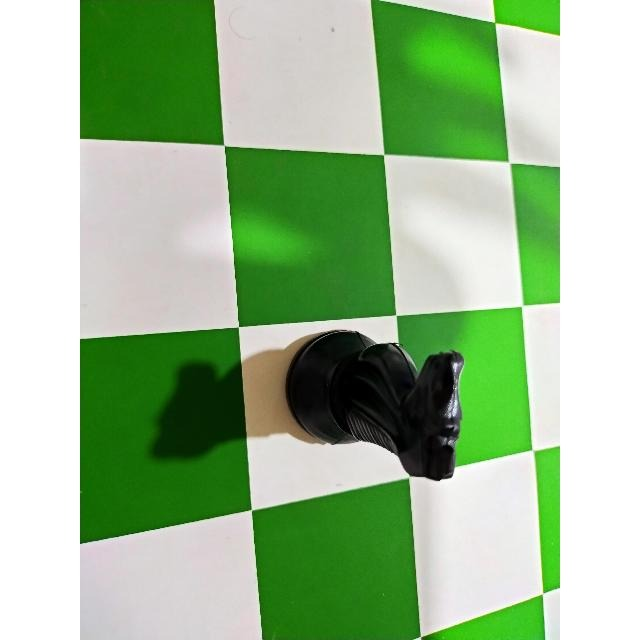black-knight: (282, 318, 470, 484)
